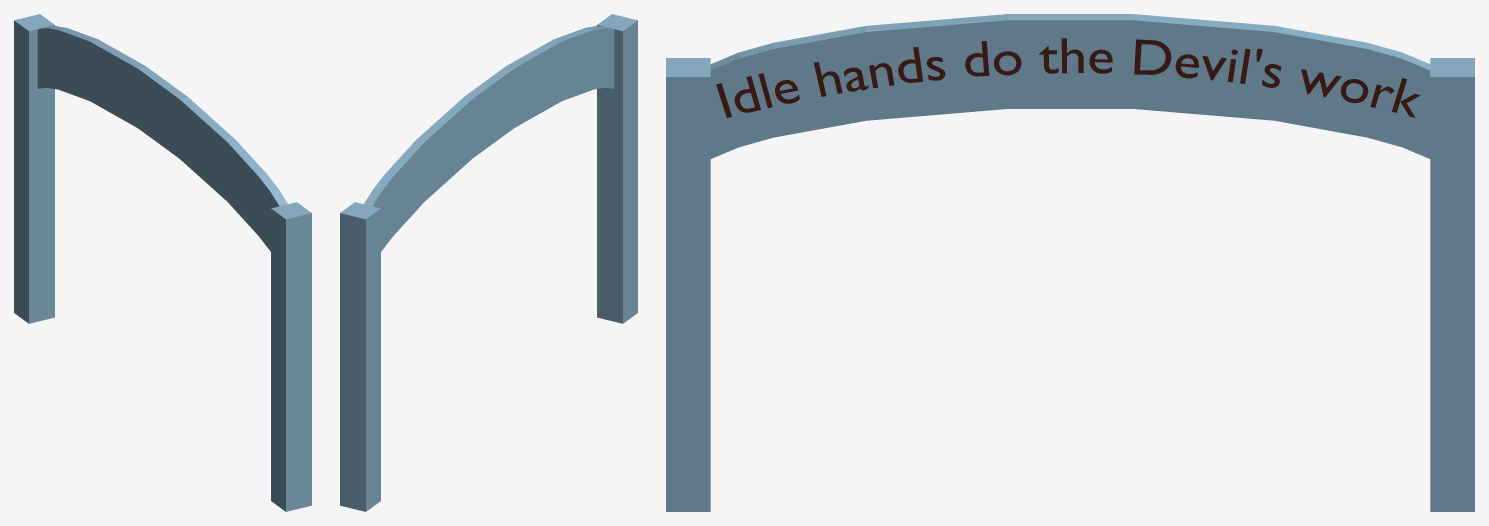
Rendered from gate.dae.
3 renders of one model, left to right at view 1: azimuth 30°, elevation 25°; view 2: azimuth 150°, elevation 25°; view 3: azimuth 270°, elevation 25°, orthographic. The views are drawn at different scales.
Visible parts, largest first — view 1: gate-col; view 2: gate-col; view 3: gate-col, gate-text.
Boxes of the visible parts, <box> form: gate-col: <box>14,14,311,511</box>; gate-col: <box>340,14,637,511</box>; gate-col: <box>666,14,1474,511</box>; gate-text: <box>716,38,1420,117</box>.
Bounding box in the file's own units: 0.7849 × 14.26 × 9.44.
